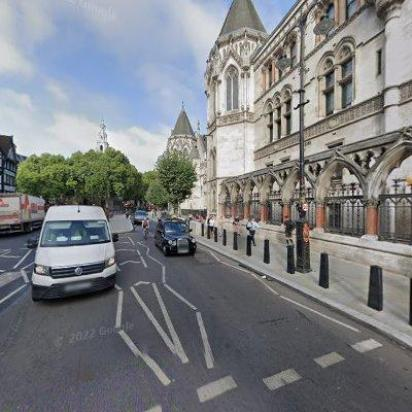moving-bicycle: (140, 215, 152, 240)
moving-car: (154, 216, 196, 256)
moving-heavy-truck: (1, 192, 46, 236)
moving-light-truck: (30, 203, 118, 304), (130, 209, 150, 225)
